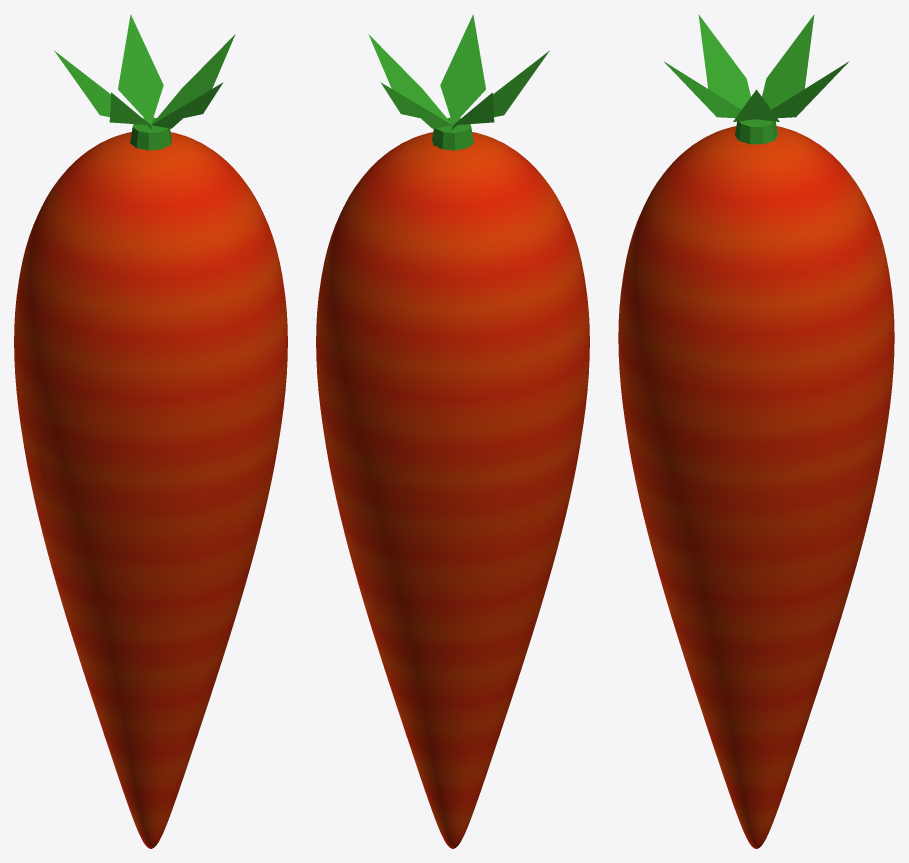
File: carotte.glb
The picture shows the model from 3 angles, left to right: view 1: azimuth 30°, elevation 25°; view 2: azimuth 150°, elevation 25°; view 3: azimuth 270°, elevation 25°; orthographic projection.
Parts seen in each view (by area): view 1: entier_peau, moitie_B_peau, entier_extra0, moitie_A_peau; view 2: entier_peau, moitie_A_peau, entier_extra0, moitie_B_peau; view 3: entier_peau, moitie_A_peau, moitie_B_peau, entier_extra0.
Boxes of the visible parts, left/top/right/bottom form: entier_peau: left=14, top=132, right=287, bottom=848; moitie_B_peau: left=32, top=138, right=287, bottom=846; entier_extra0: left=54, top=14, right=235, bottom=150; moitie_A_peau: left=14, top=132, right=200, bottom=783; entier_peau: left=316, top=132, right=589, bottom=848; moitie_A_peau: left=316, top=137, right=570, bottom=846; entier_extra0: left=368, top=14, right=549, bottom=150; moitie_B_peau: left=401, top=133, right=589, bottom=811; entier_peau: left=618, top=126, right=894, bottom=848; moitie_A_peau: left=756, top=127, right=894, bottom=847; moitie_B_peau: left=619, top=126, right=756, bottom=845; entier_extra0: left=663, top=14, right=849, bottom=144.
Bounding box in the file's own units: 0.7001 × 2.24 × 0.7001.
